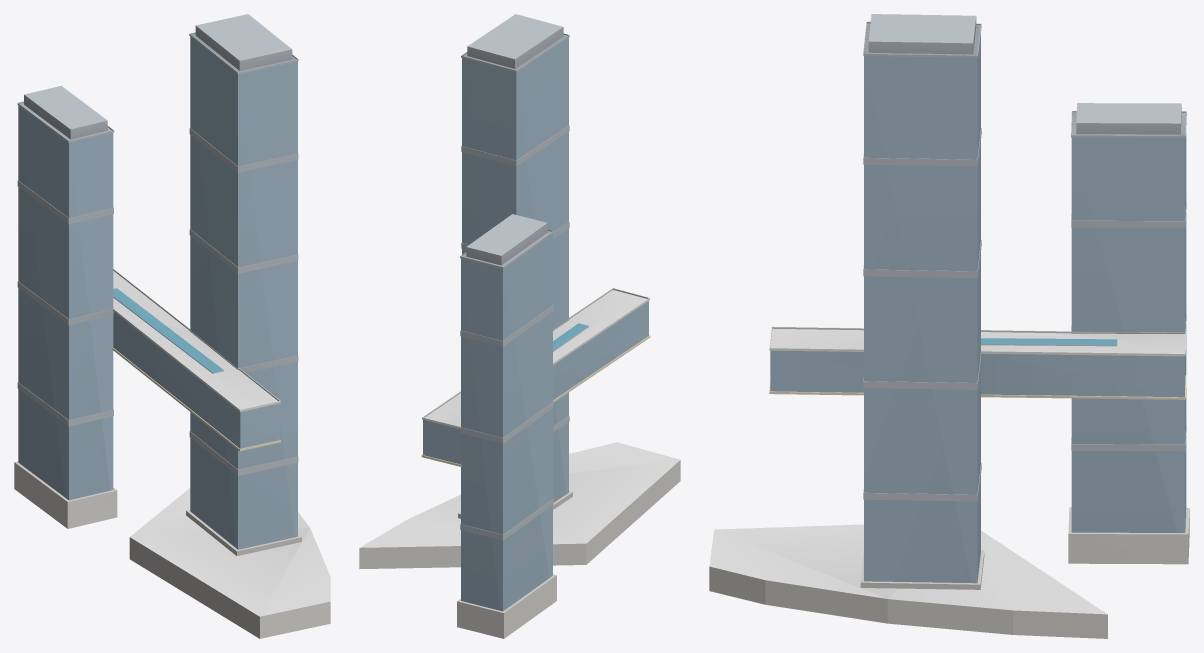
Rendered from one_zaabeel.glb.
The picture shows the model from 3 angles, left to right: view 1: azimuth 30°, elevation 25°; view 2: azimuth 150°, elevation 25°; view 3: azimuth 270°, elevation 25°; orthographic projection. The views are drawn at different scales.
Visible parts, largest first — view 1: one_zaabeel; view 2: one_zaabeel; view 3: one_zaabeel.
Boxes of the visible parts, left/top/right/bottom form: one_zaabeel: left=14, top=14, right=330, bottom=638; one_zaabeel: left=359, top=14, right=680, bottom=638; one_zaabeel: left=709, top=14, right=1189, bottom=638.
Size of the model in its own units: 117 by 305 by 234.
